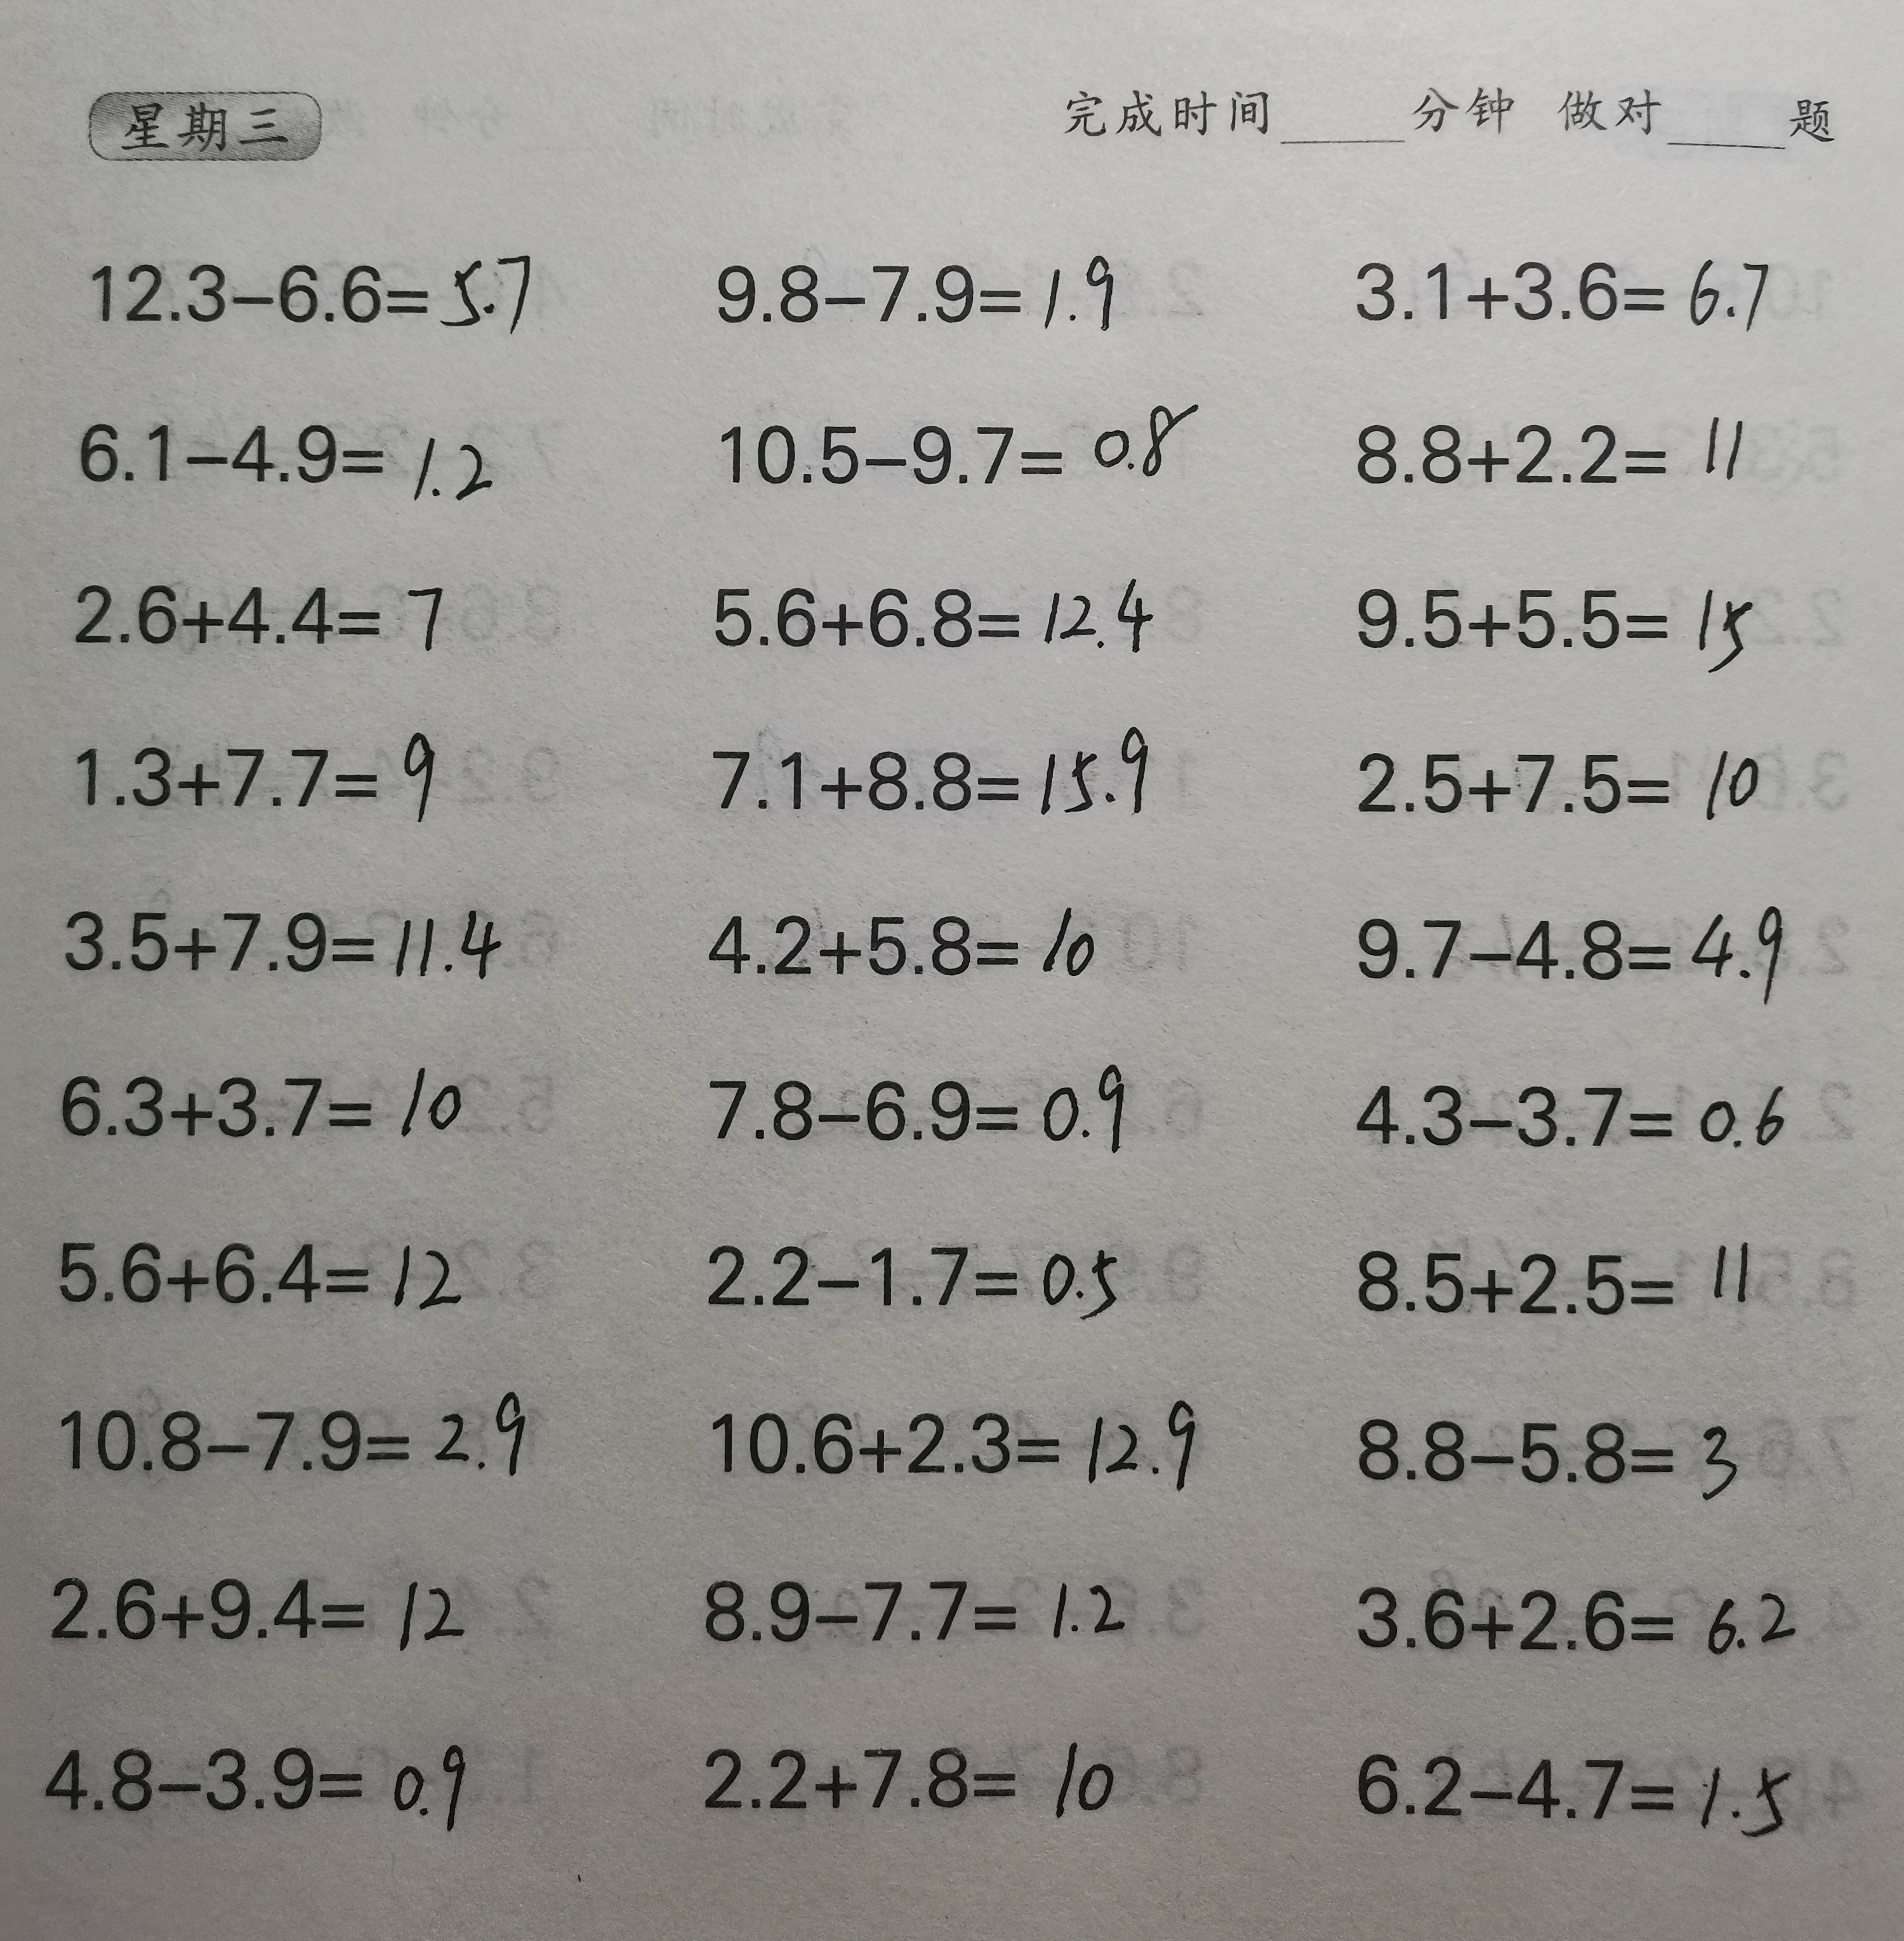equation: (51, 868, 532, 1006), (696, 1376, 1221, 1502), (1344, 1720, 1808, 1859), (47, 1362, 544, 1491), (697, 1034, 1146, 1172), (33, 1720, 499, 1849), (704, 719, 1173, 846), (1341, 1048, 1810, 1174), (696, 1203, 1139, 1336), (703, 215, 1144, 347), (1343, 1554, 1827, 1674), (703, 384, 1212, 497), (1341, 881, 1799, 1005), (1344, 1386, 1756, 1524), (82, 223, 549, 342), (31, 1545, 478, 1669), (1341, 220, 1785, 344), (1350, 1216, 1787, 1339), (694, 1711, 1130, 1835), (696, 1542, 1144, 1662), (1339, 556, 1787, 677), (1348, 710, 1777, 835), (68, 389, 516, 507), (703, 553, 1191, 661), (694, 882, 1130, 1003), (47, 1219, 486, 1336), (42, 1046, 481, 1156), (63, 710, 453, 832), (1343, 398, 1777, 501), (63, 556, 462, 661)
